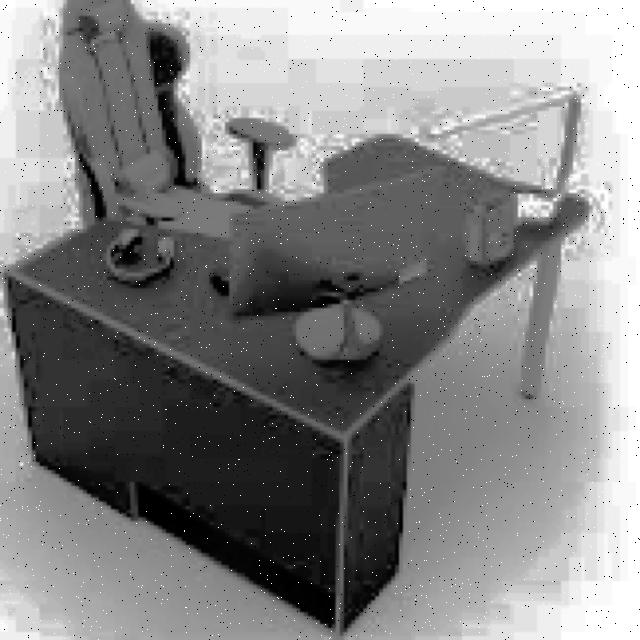book: (55, 0, 292, 237)
table: (0, 111, 589, 636)
